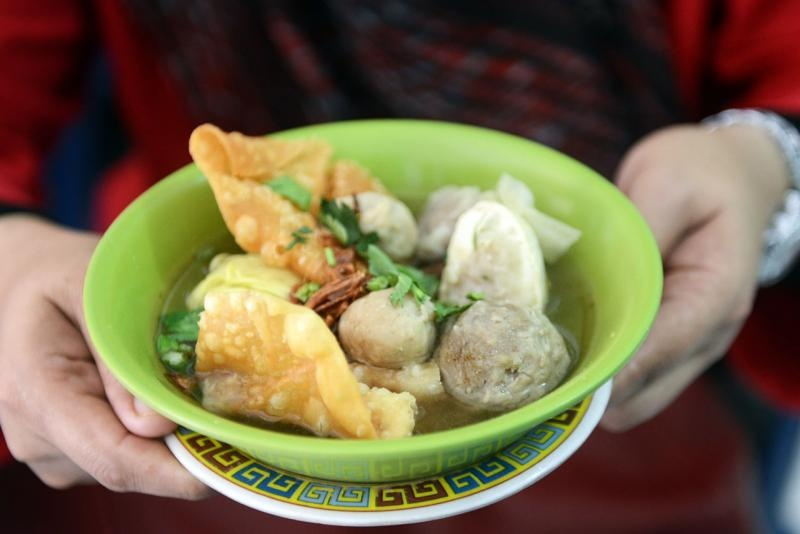bakso_malang: (158, 123, 584, 437)
